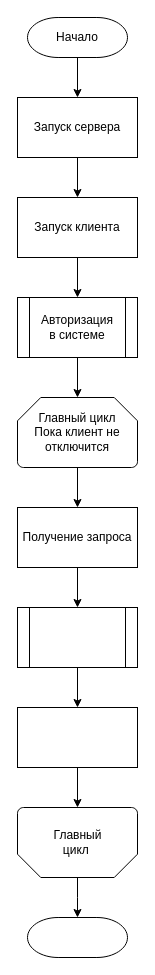
This 155x975 diagram has some shape labels left out. Each missing label, with the centre of its shape:
"Конец" belongs at (x=77, y=937).
"Обработка запроса" belongs at (x=77, y=637).
"Отправка ответа (результатов выполнения запроса)" belongs at (x=77, y=737).
